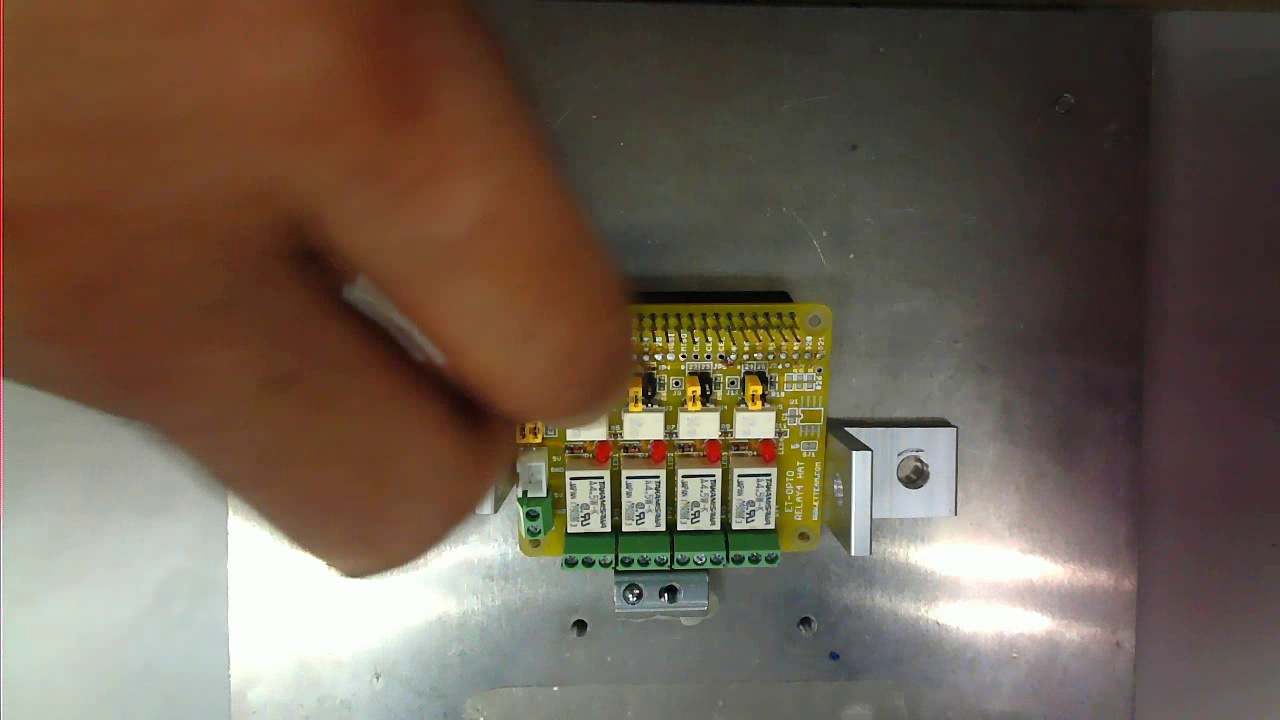can: (487, 295, 832, 569)
